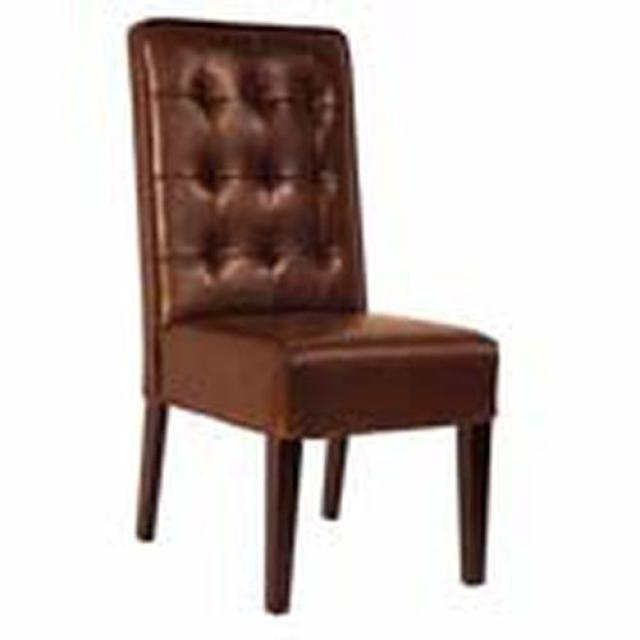chair: (125, 18, 499, 617)
